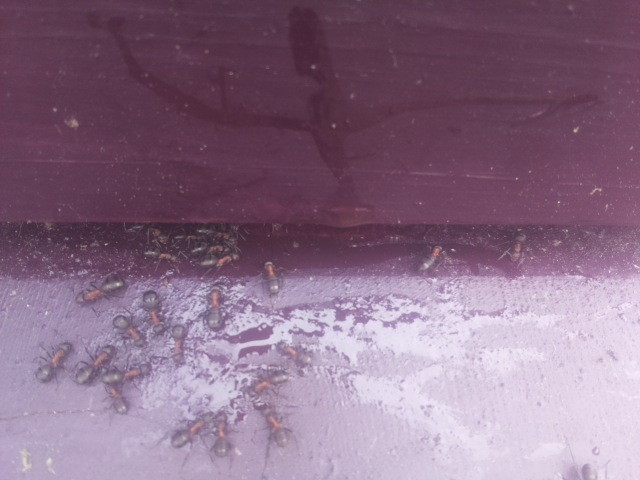ant: (159, 404, 219, 459), (29, 329, 78, 394), (249, 393, 298, 456), (67, 270, 132, 310), (70, 343, 118, 388), (136, 283, 170, 344), (99, 365, 132, 419), (200, 282, 231, 334), (270, 338, 317, 372), (106, 312, 147, 348), (260, 251, 289, 301), (97, 365, 153, 387), (168, 319, 193, 365), (415, 243, 447, 277), (211, 412, 231, 463), (246, 371, 290, 393), (133, 248, 177, 262), (510, 228, 527, 264)
